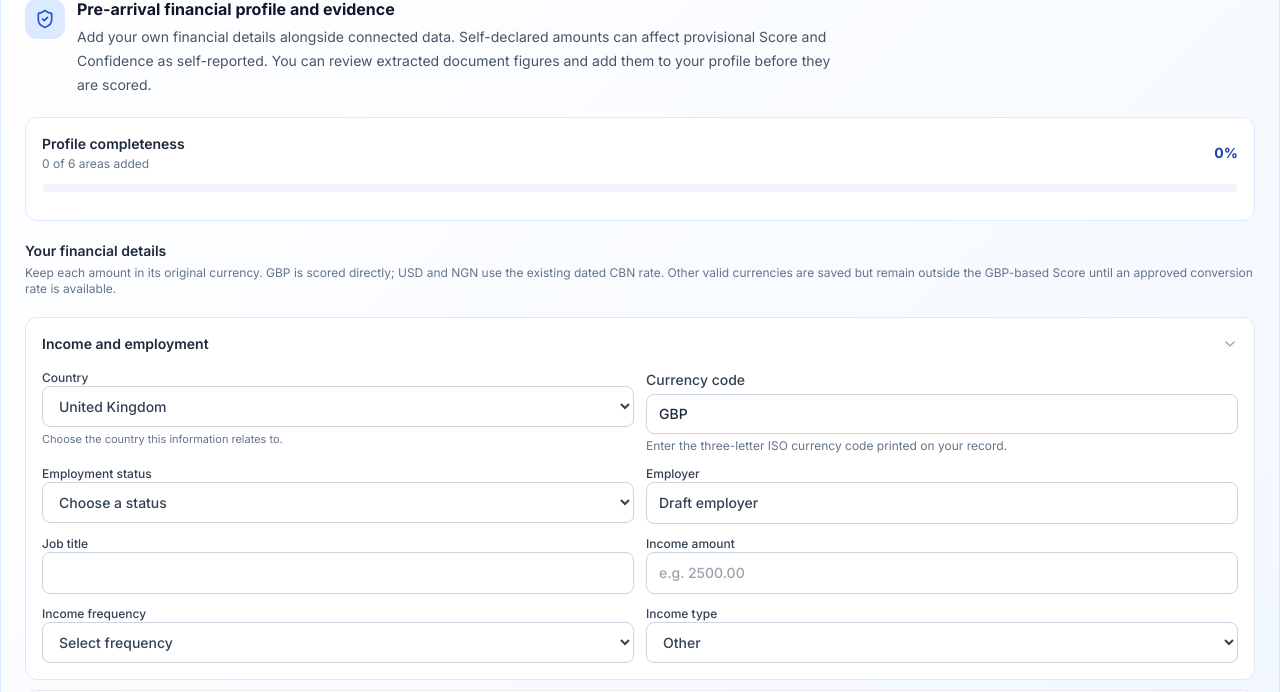
Scenario: PassportEvidenceIntake disclosures › restores a private financial draft separately from the confirmed profile
Expected: the text "Profile completeness" is shown, x1=42 y1=134 x2=185 y2=154
Click the heading "Income and employment" at [125, 344], box x1=42 y1=334 x2=1238 y2=354
(page scrolled)
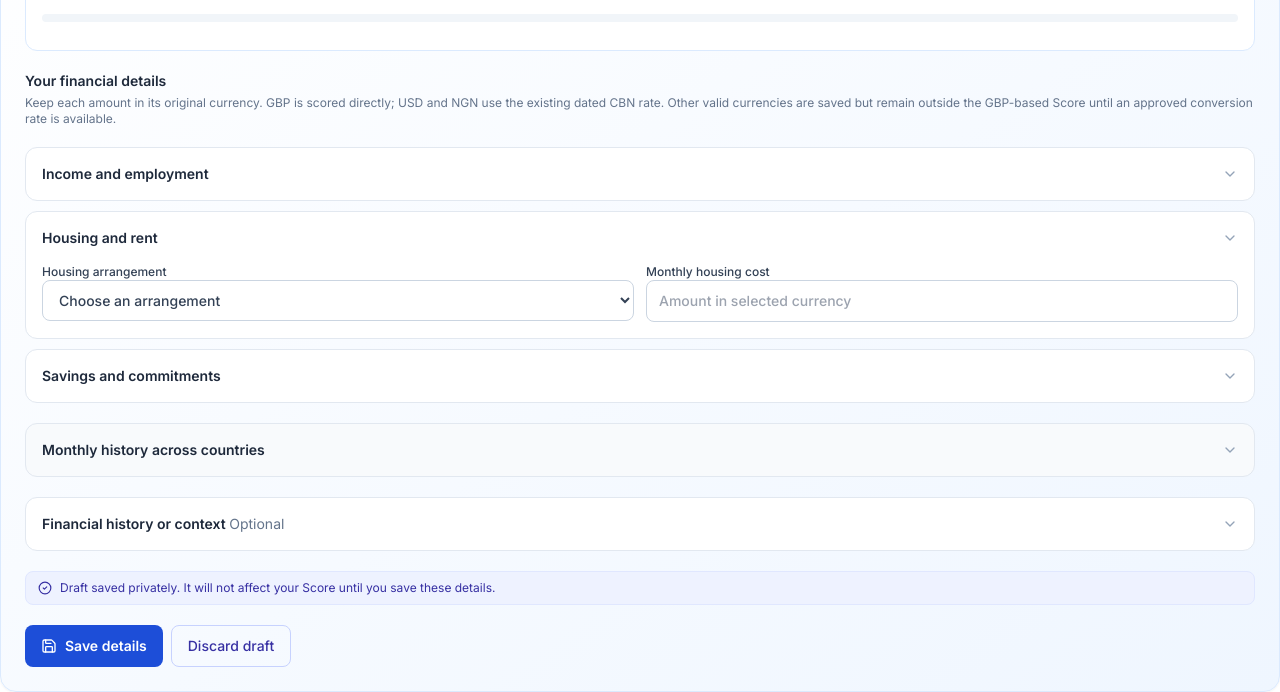
Expected: the element named "Employer" holds "Draft employer", x1=25 y1=147 x2=1255 y2=201
Expected: the text "Draft saved privately" is shown, x1=60 y1=580 x2=495 y2=595
